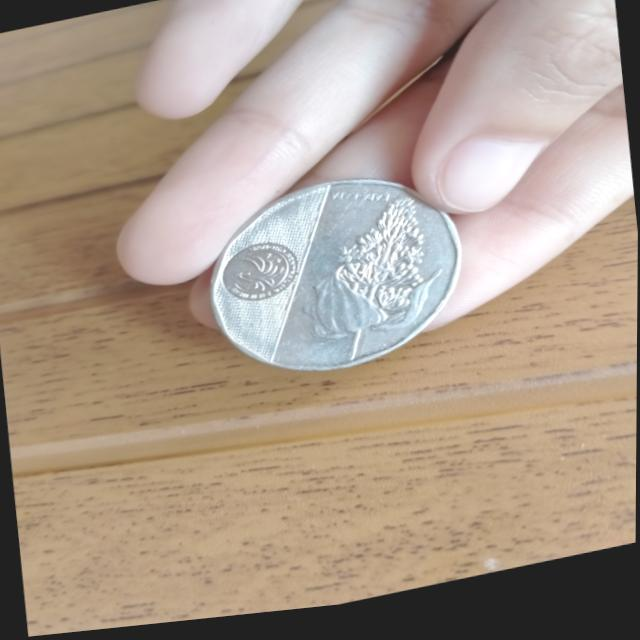10_New_Back: (296, 183, 455, 386)
